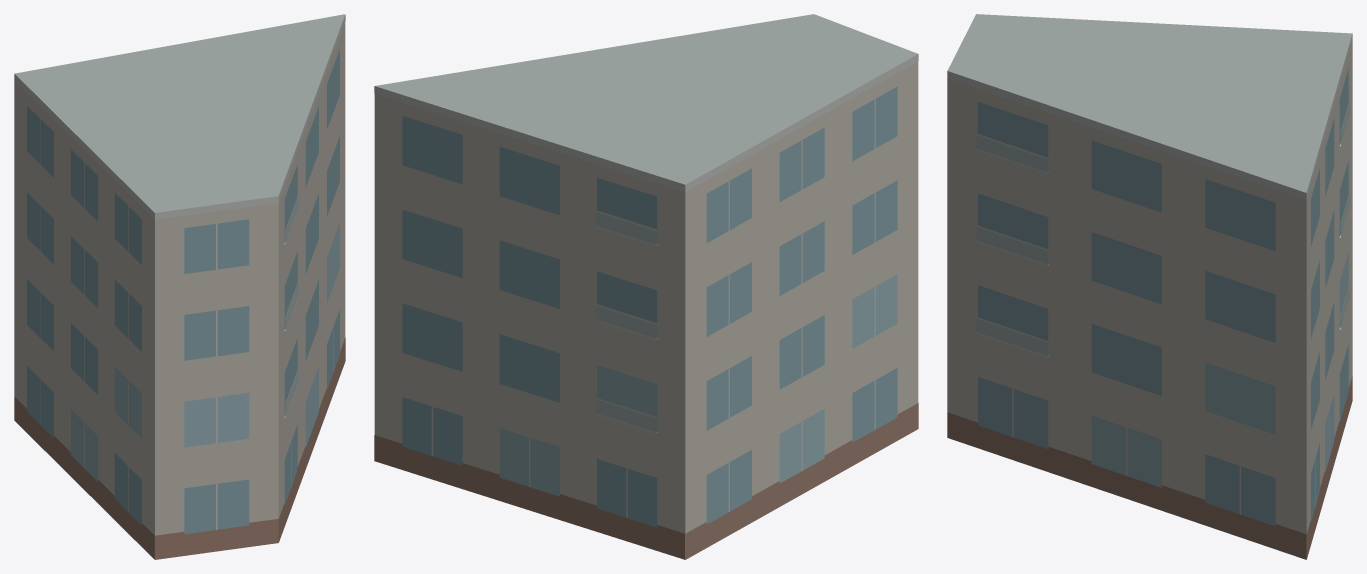
File: survey-upis-32592846.glb
3 views of the same model, side by side, from view 1: azimuth 30°, elevation 25°; view 2: azimuth 150°, elevation 25°; view 3: azimuth 270°, elevation 25° (orthographic). The views are drawn at different scales.
Visible parts, largest first — view 1: survey-upis-32592846.tmp; view 2: survey-upis-32592846.tmp; view 3: survey-upis-32592846.tmp.
Part boxes in pixels (<box>): survey-upis-32592846.tmp: <box>14,14,345,559</box>; survey-upis-32592846.tmp: <box>374,14,918,559</box>; survey-upis-32592846.tmp: <box>947,14,1352,559</box>.
Bounding box in the file's own units: 12.77 × 12.2 × 12.22.
